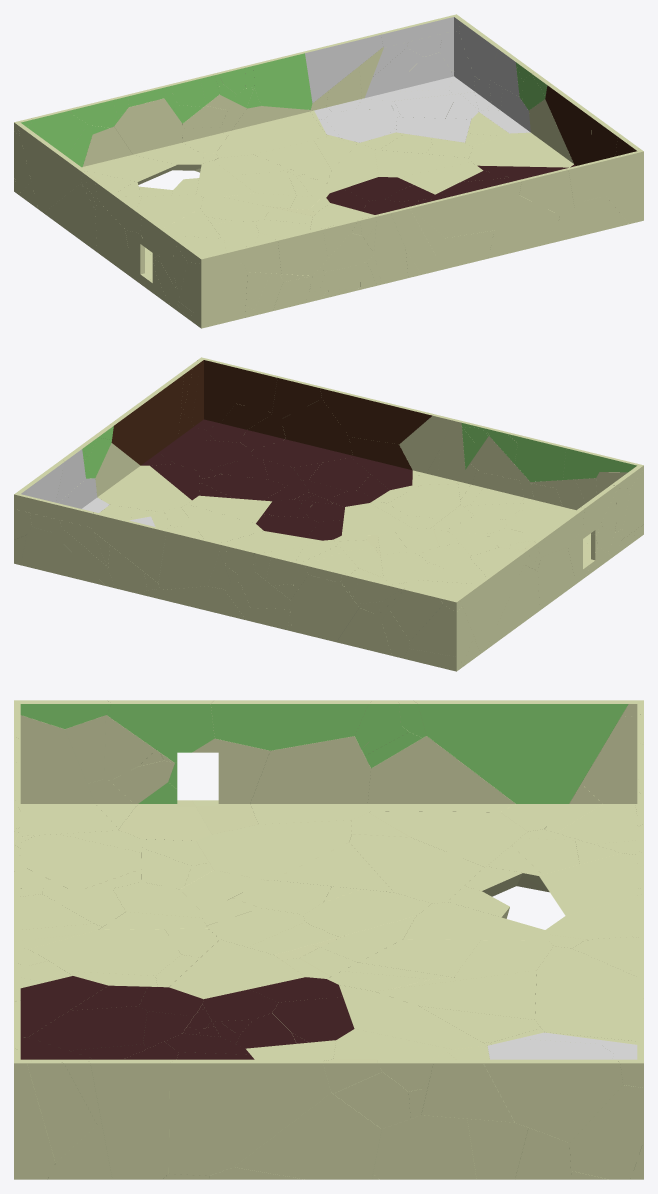
Rendered from General Walls n Floor.fbx.
3 renders of one model, top to bottom at view 1: azimuth 30°, elevation 25°; view 2: azimuth 150°, elevation 25°; view 3: azimuth 270°, elevation 25°, orthographic. The views are drawn at different scales.
Parts seen in each view (by area): view 1: Floor_cell.020, Floor_cell.029, Floor_cell.001, Floor_cell.049, Floor_cell.015, Floor_cell.010, Floor_cell.035, Floor_cell.006, Floor_cell.052, Floor_cell.005, Floor_cell.043, Floor_cell.098_cell.005 (+72 smaller); view 2: Floor_cell.006, Floor_cell.029, Floor_cell.042, Floor_cell.049, Floor_cell.020, Floor_cell.010, Floor_cell.035, Floor_cell.005, Floor_cell.043, Floor_cell.091_cell.003, Floor_cell.068_cell, Floor_cell.018 (+73 smaller); view 3: Floor_cell.010, Floor_cell.043, Floor_cell.055, Floor_cell.042, Floor_cell.036, Floor_cell.001, Floor_cell.029, Floor_cell.015, Floor_cell.048, Floor_cell.054, Floor_cell.060, Floor_cell.091_cell.003 (+83 smaller).
Boxes of the visible parts, bbox=[...] form: Floor_cell.020: bbox=[114, 98, 205, 170]; Floor_cell.029: bbox=[469, 99, 573, 167]; Floor_cell.001: bbox=[216, 106, 325, 157]; Floor_cell.049: bbox=[409, 179, 521, 237]; Floor_cell.015: bbox=[178, 262, 247, 326]; Floor_cell.010: bbox=[17, 124, 85, 212]; Floor_cell.035: bbox=[251, 51, 312, 109]; Floor_cell.006: bbox=[488, 195, 559, 258]; Floor_cell.052: bbox=[83, 126, 177, 184]; Floor_cell.005: bbox=[304, 33, 383, 103]; Floor_cell.043: bbox=[545, 84, 597, 167]; Floor_cell.098_cell.005: bbox=[606, 148, 643, 224]; Floor_cell.006: bbox=[251, 399, 352, 467]; Floor_cell.029: bbox=[95, 443, 191, 511]; Floor_cell.042: bbox=[155, 374, 252, 471]; Floor_cell.049: bbox=[320, 387, 434, 444]; Floor_cell.020: bbox=[290, 575, 359, 642]; Floor_cell.010: bbox=[457, 552, 525, 653]; Floor_cell.035: bbox=[158, 530, 220, 589]; Floor_cell.005: bbox=[91, 512, 169, 583]; Floor_cell.043: bbox=[110, 391, 174, 465]; Floor_cell.091_cell.003: bbox=[408, 604, 473, 663]; Floor_cell.068_cell: bbox=[20, 527, 105, 585]; Floor_cell.018: bbox=[349, 436, 412, 490]; Floor_cell.010: bbox=[413, 700, 631, 831]; Floor_cell.043: bbox=[169, 1059, 331, 1175]; Floor_cell.055: bbox=[250, 736, 370, 824]; Floor_cell.042: bbox=[87, 1059, 173, 1179]; Floor_cell.036: bbox=[483, 1059, 622, 1142]; Floor_cell.001: bbox=[535, 946, 637, 1041]; Floor_cell.029: bbox=[234, 1093, 381, 1179]; Floor_cell.015: bbox=[20, 715, 118, 836]; Floor_cell.048: bbox=[367, 736, 515, 812]; Floor_cell.054: bbox=[211, 700, 372, 750]; Floor_cell.060: bbox=[196, 820, 351, 880]; Floor_cell.091_cell.003: bbox=[557, 716, 637, 844].
Size of the model in its own units: 2379 by 355 by 1744.
